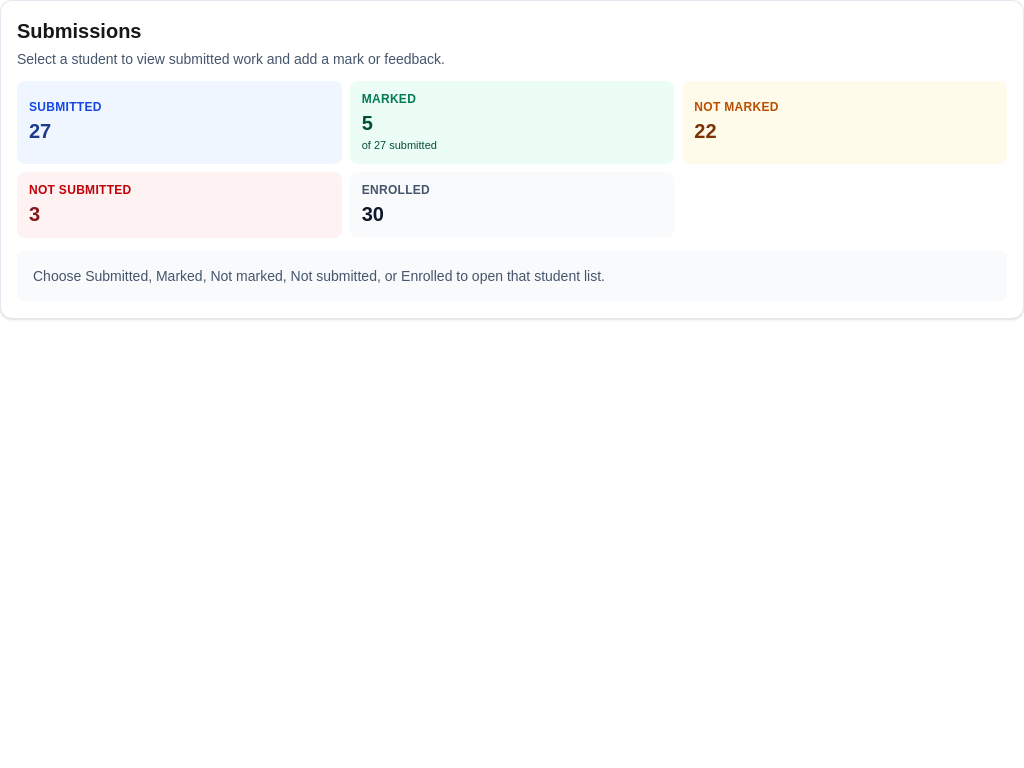
Test: assignment submission lists › opens submitted and not-submitted lists independently
Click the button "Submitted 27".
click(65, 107)  # box [17, 81, 342, 164]
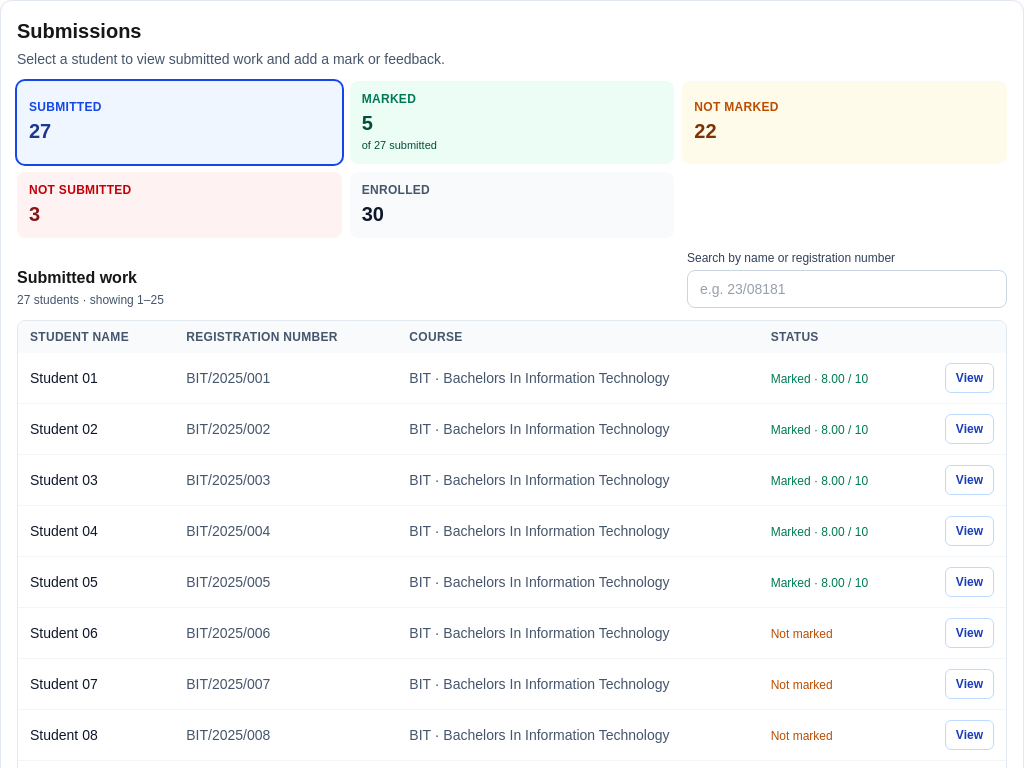
Expected: the heading "Submitted work" is shown, [17, 268, 137, 286]
Expected: the text "27 students · showing 1–25" is shown, [17, 292, 164, 308]
Click the button "Not submitted 3".
click(80, 190)  # box [17, 172, 342, 238]
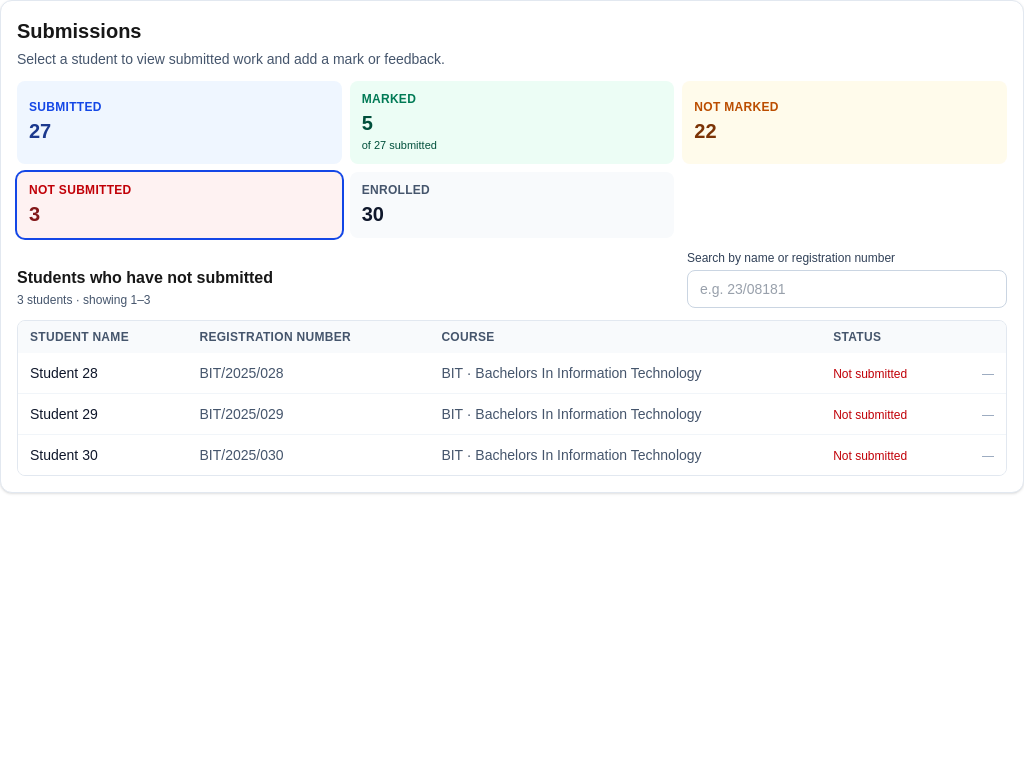
Expected: the heading "Students who have not submitted" is shown, [17, 266, 273, 290]
Expected: the text "3 students · showing 1–3" is shown, [17, 292, 150, 306]
Expected: the text "Student 28" is shown, [18, 352, 188, 393]
